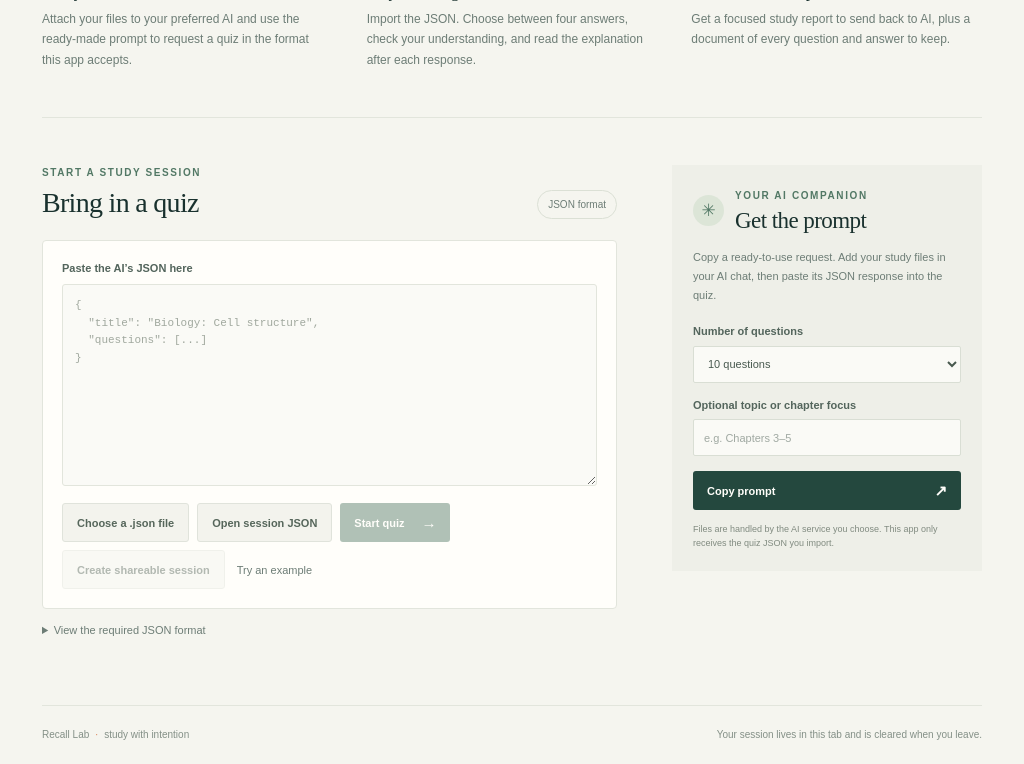
Test: quiz page workflow › shows a visible failure when clipboard writing rejects
The width and height of the screenshot is (1024, 764).
(page scrolled)
Click the button "Copy prompt ↗".
click(741, 491)  # box [693,471,961,510]
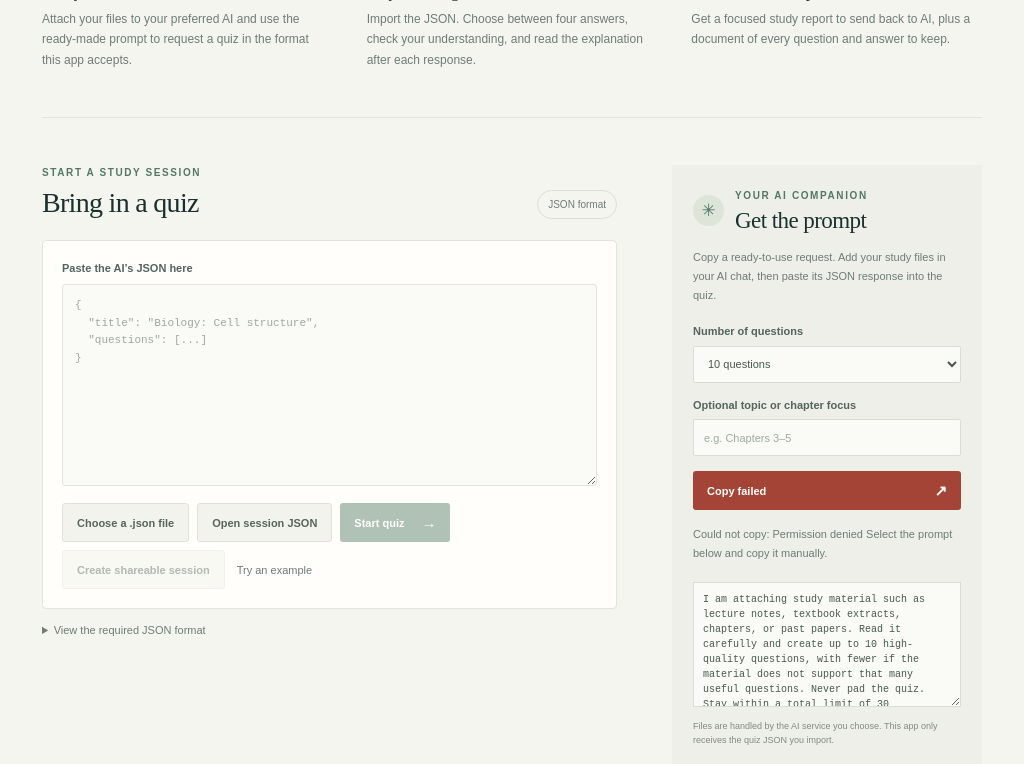
Expected: the message shows "Permission denied", [693,528,952,559]
Expected: the button "Copy failed ↗" is shown, [693,471,961,510]
